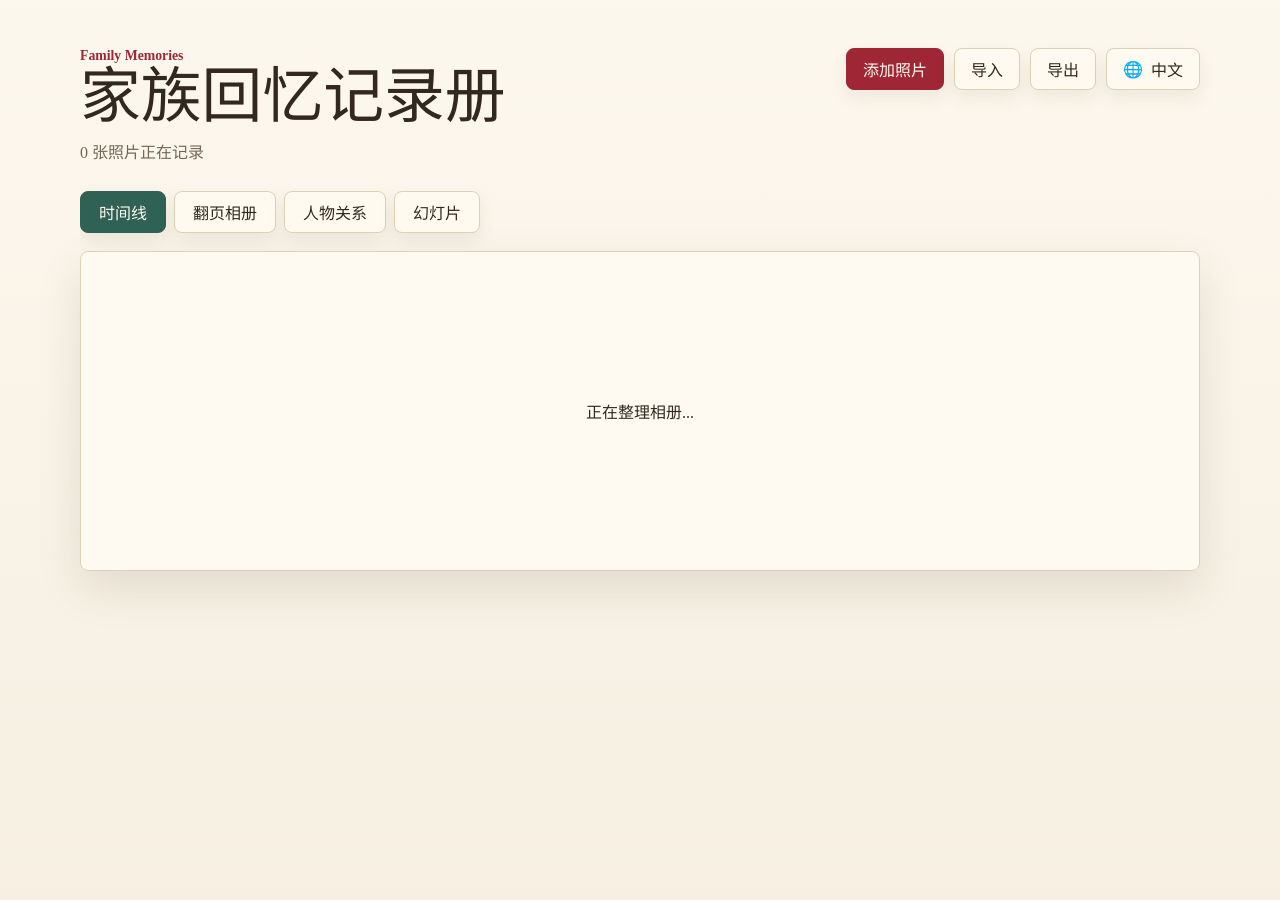
Test: App › exports the album as a dated JSON download
Expected: the heading "家族回忆记录册" is shown, 80,64 -> 506,130
What coordinates should you click on to do the following:
click the button "导出"
I would click on:
 (1063, 69)
Its box is 1030,48 -> 1096,90.
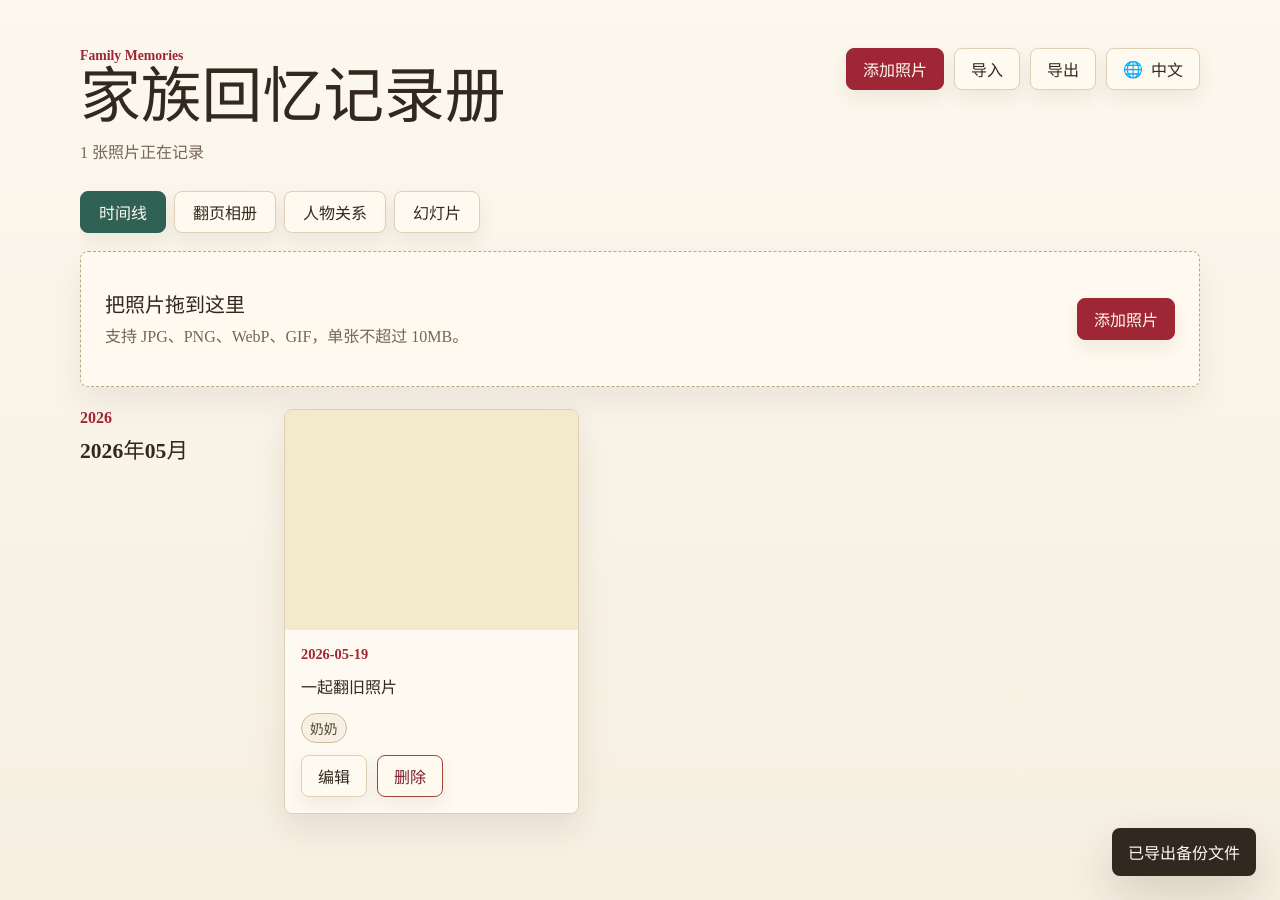
Result: the text "已导出备份文件" is shown at 1112,828 -> 1256,876
